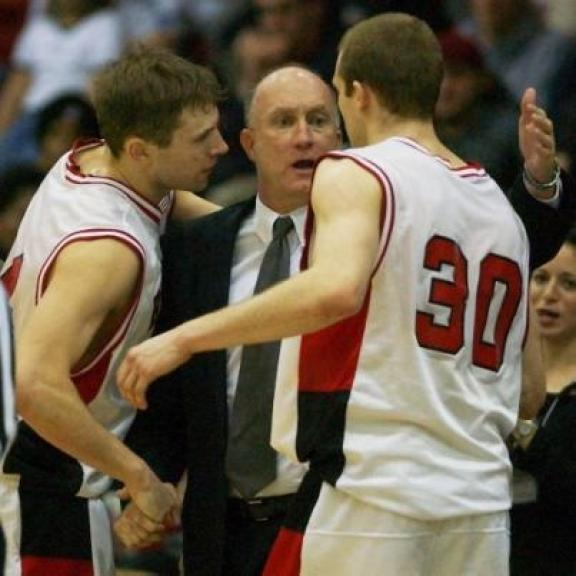face: (242, 71, 345, 214), (132, 88, 239, 223), (526, 239, 576, 338), (432, 58, 481, 120), (265, 0, 320, 42), (44, 110, 85, 162)
